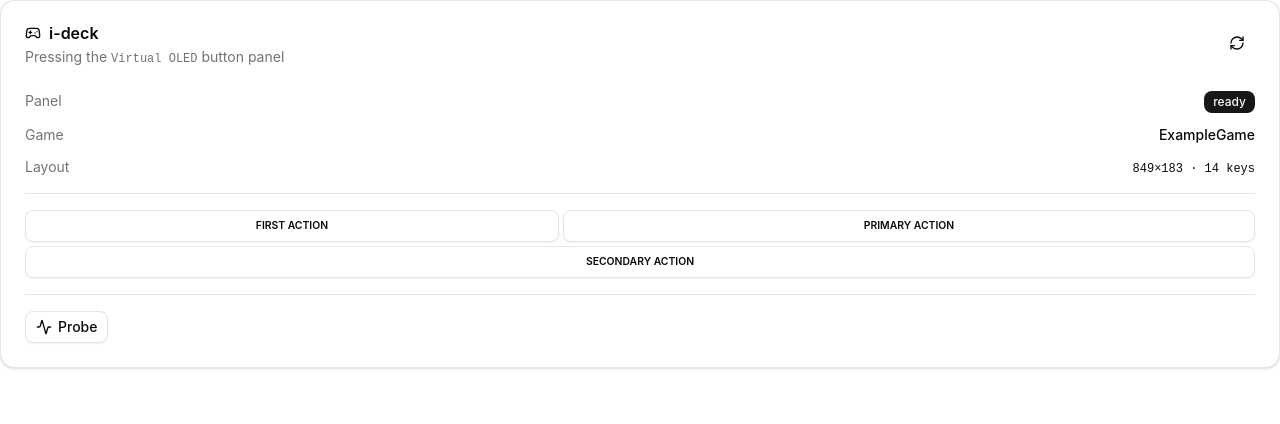
Scenario: IDeckPanel › presses the key that was clicked
Click the button "PRIMARY ACTION" at (909, 226), box 563,210 -> 1255,242
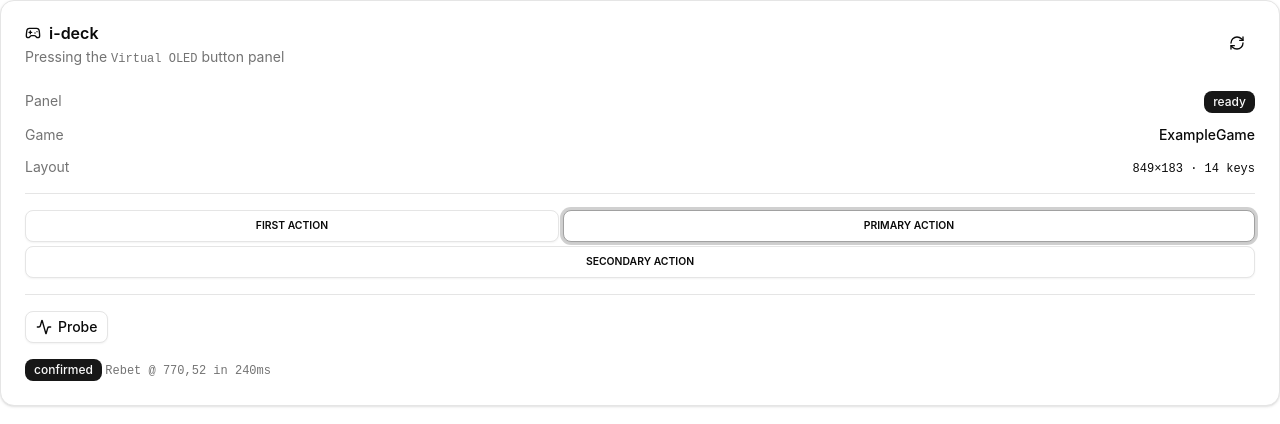
Expected: the text "confirmed" is shown, 25,359 -> 102,381
